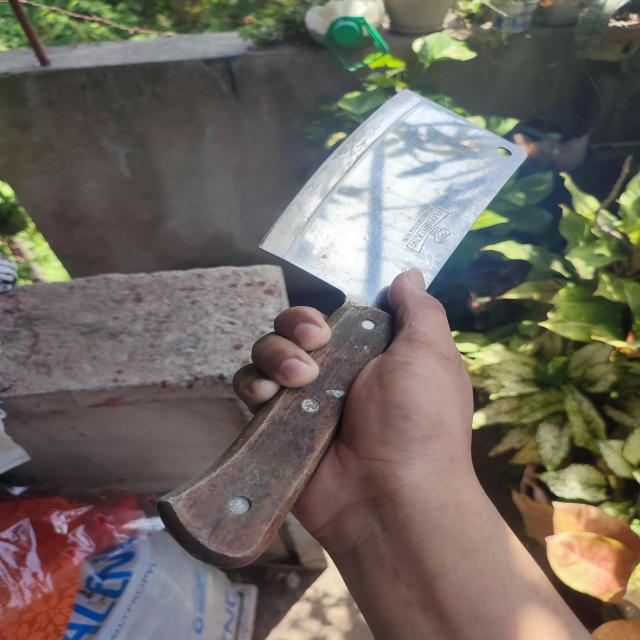knife: (153, 56, 527, 570)
